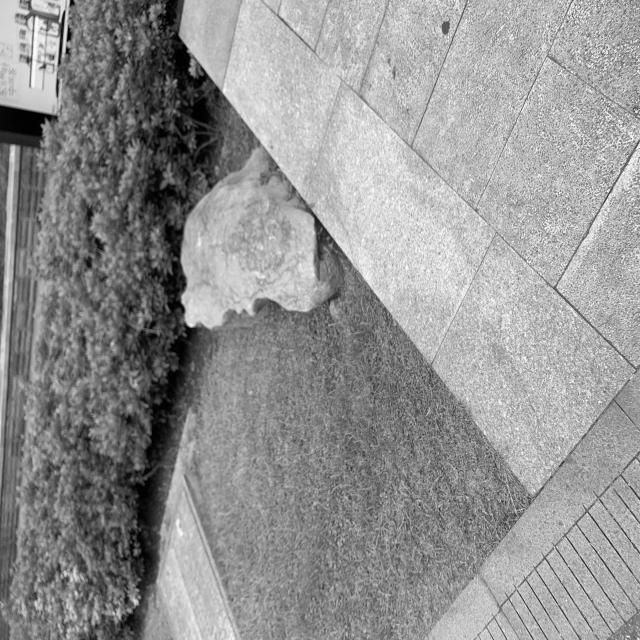Stone: (181, 149, 341, 328)
